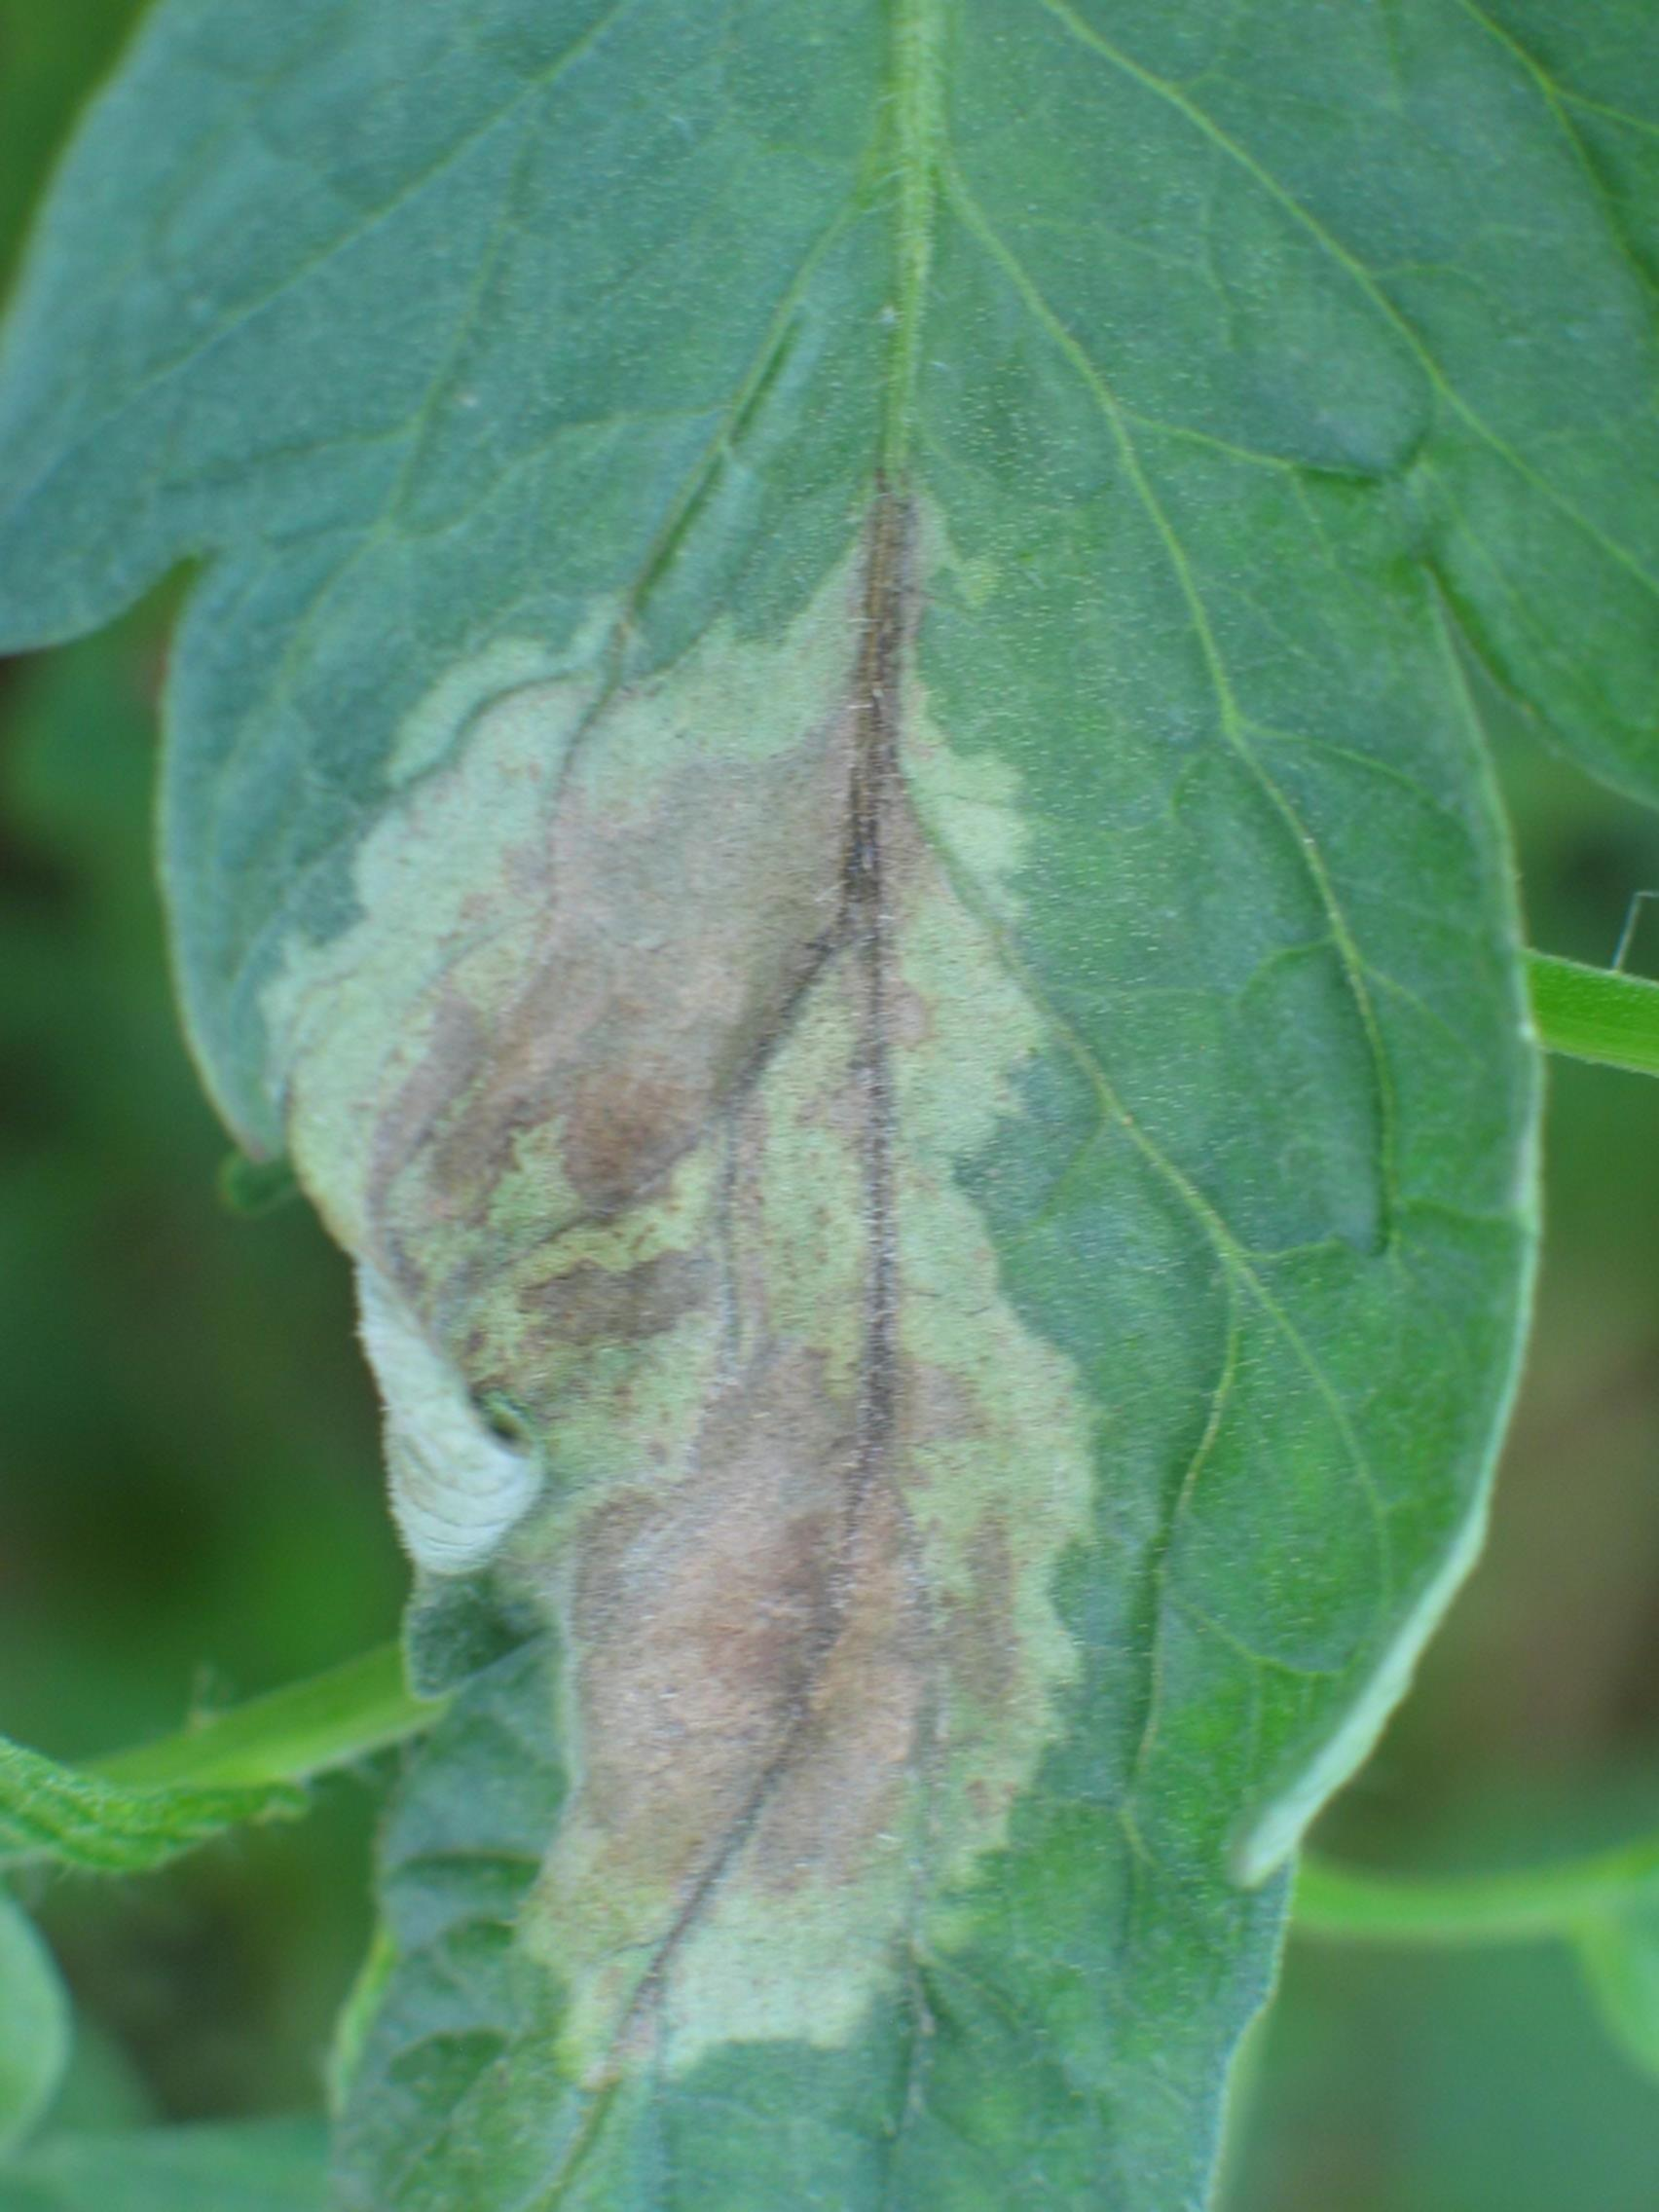Tomato leaf late blight: (35, 12, 1657, 2200)
